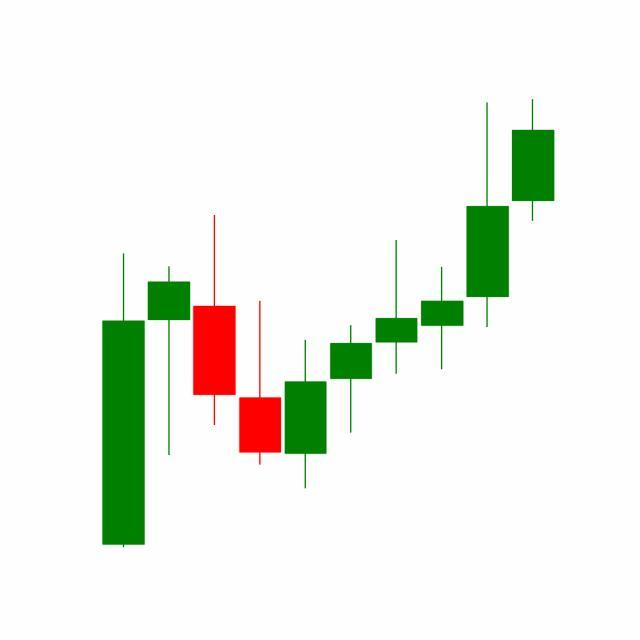Hikkake Pattern: (283, 100, 512, 494)
